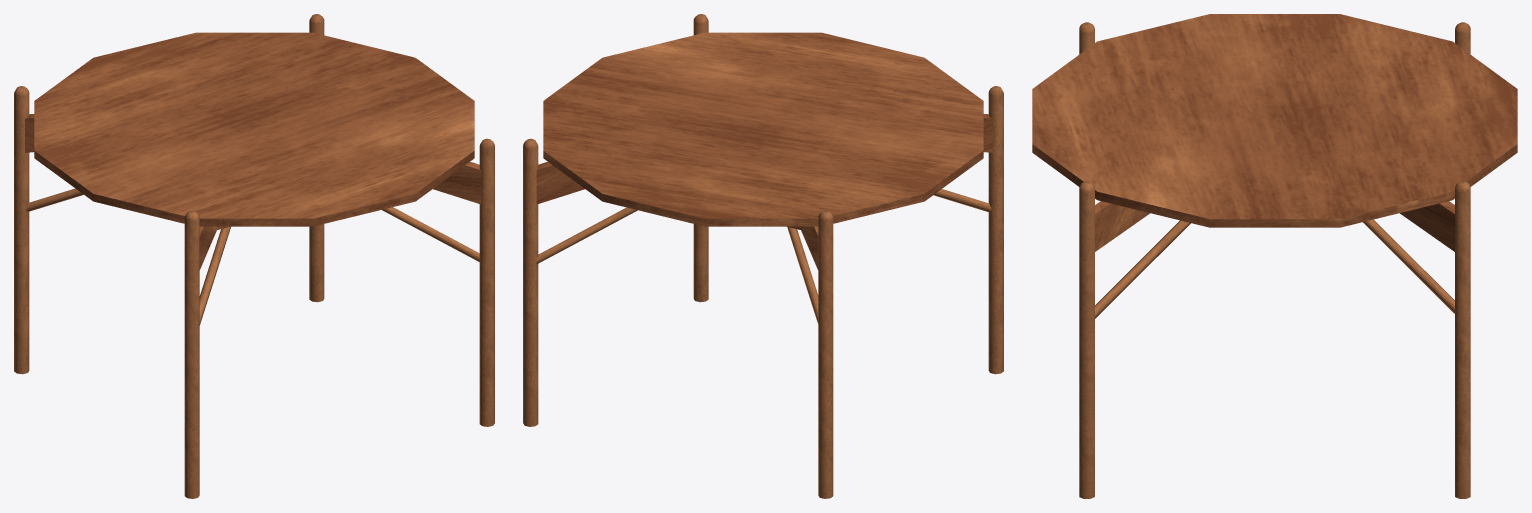
File: LC_3010_round_table_LOD2.FBX
3 renders of one model, left to right at view 1: azimuth 30°, elevation 25°; view 2: azimuth 150°, elevation 25°; view 3: azimuth 270°, elevation 25°, orthographic. The views are drawn at different scales.
Parts seen in each view (by area): view 1: LC_3010_round_table_LOD2; view 2: LC_3010_round_table_LOD2; view 3: LC_3010_round_table_LOD2.
Boxes of the visible parts, left/top/right/bottom form: LC_3010_round_table_LOD2: left=14, top=14, right=494, bottom=498; LC_3010_round_table_LOD2: left=523, top=14, right=1003, bottom=498; LC_3010_round_table_LOD2: left=1032, top=14, right=1517, bottom=498.
Size of the model in its own units: 80.53 by 57.31 by 80.53.
1 material, 1 textured.
